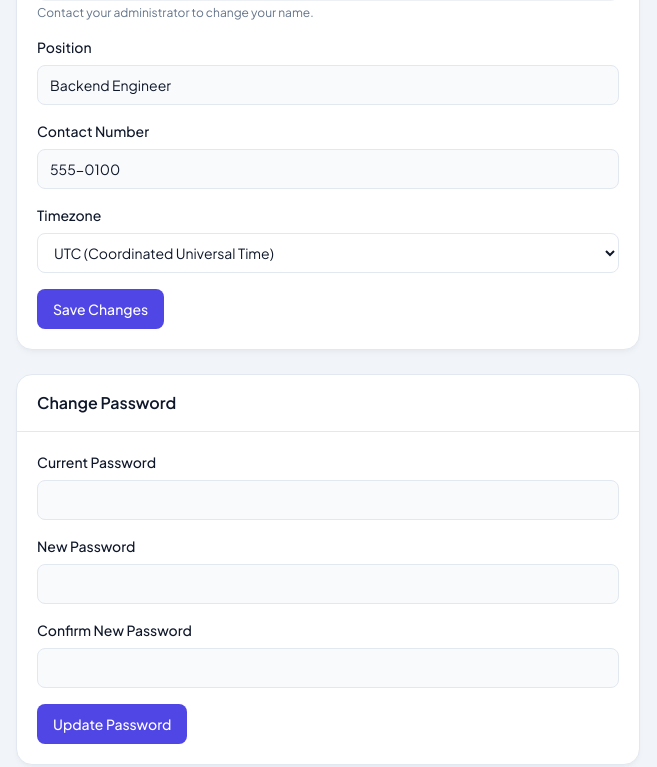
ProfilePage › shows a server error when the current password is wrong, without clearing the form
(page scrolled)
In the password field labelled "Current Password": [328, 500] box [37,480,619,520], type "wrong-password"
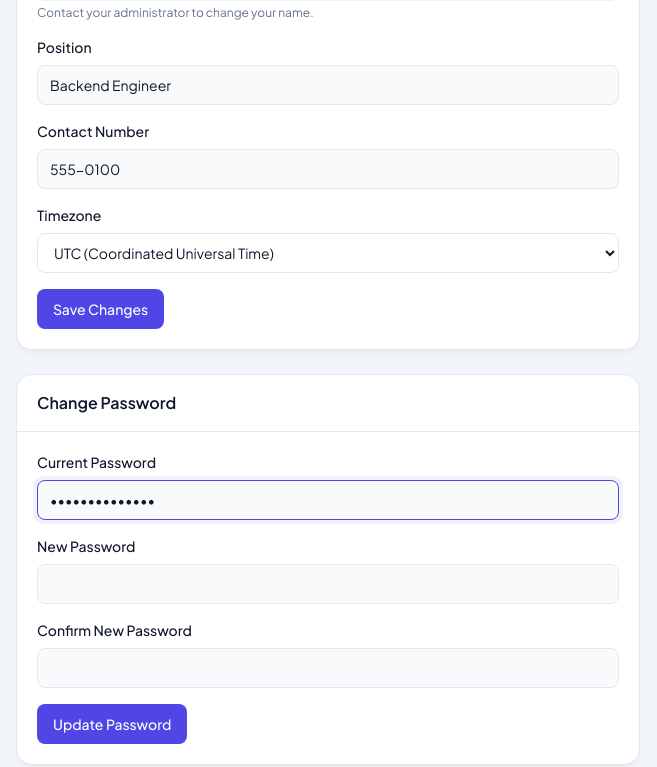
In the password field labelled "New Password": [328, 584] box [37,564,619,604], type "new-password"
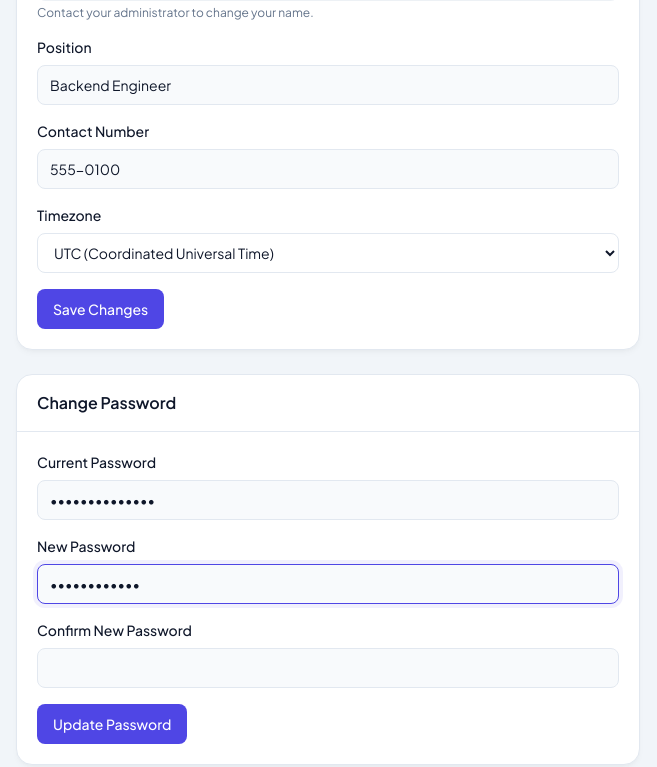
In the password field labelled "Confirm New Password": [328, 668] box [37,648,619,688], type "new-password"
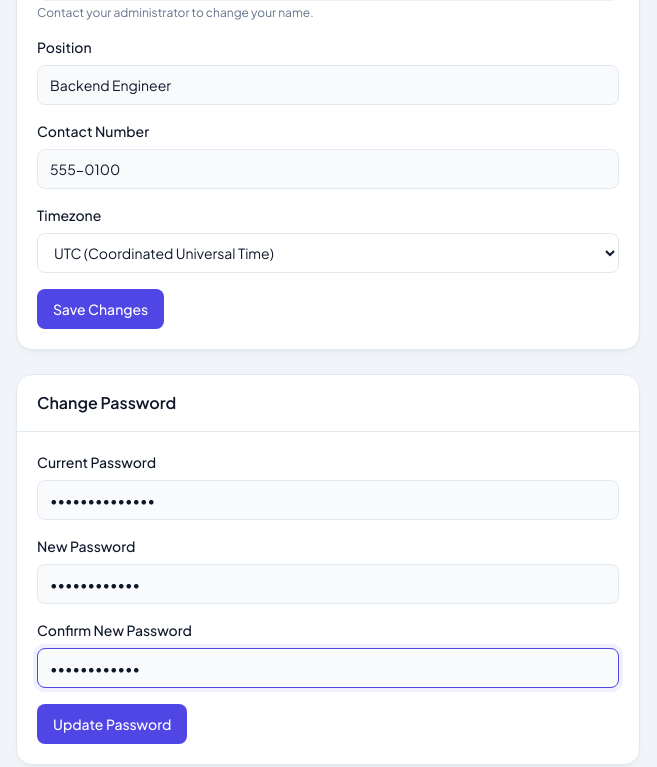
Click the button "Update Password": [112, 724] box [37,704,188,744]
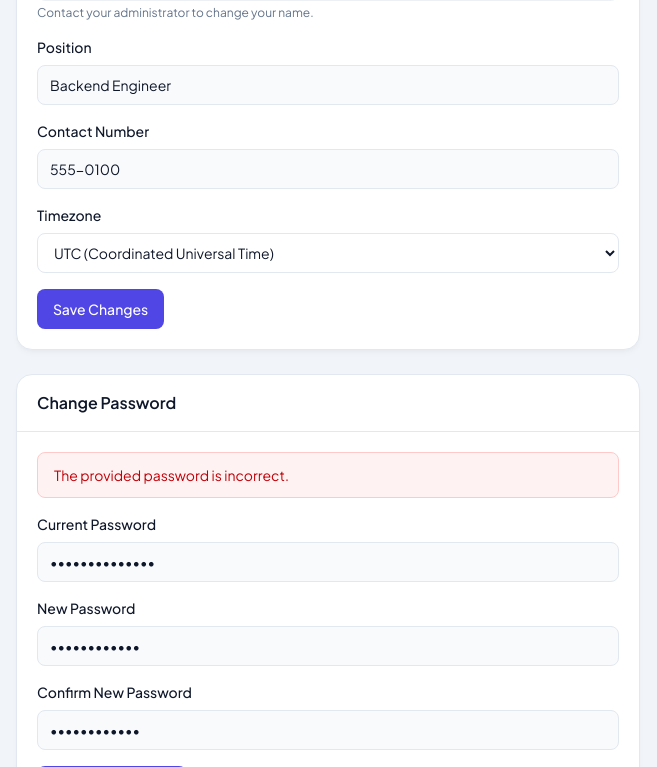
Expected: the text "The provided password is incorrect." is shown, [37,452,619,498]
